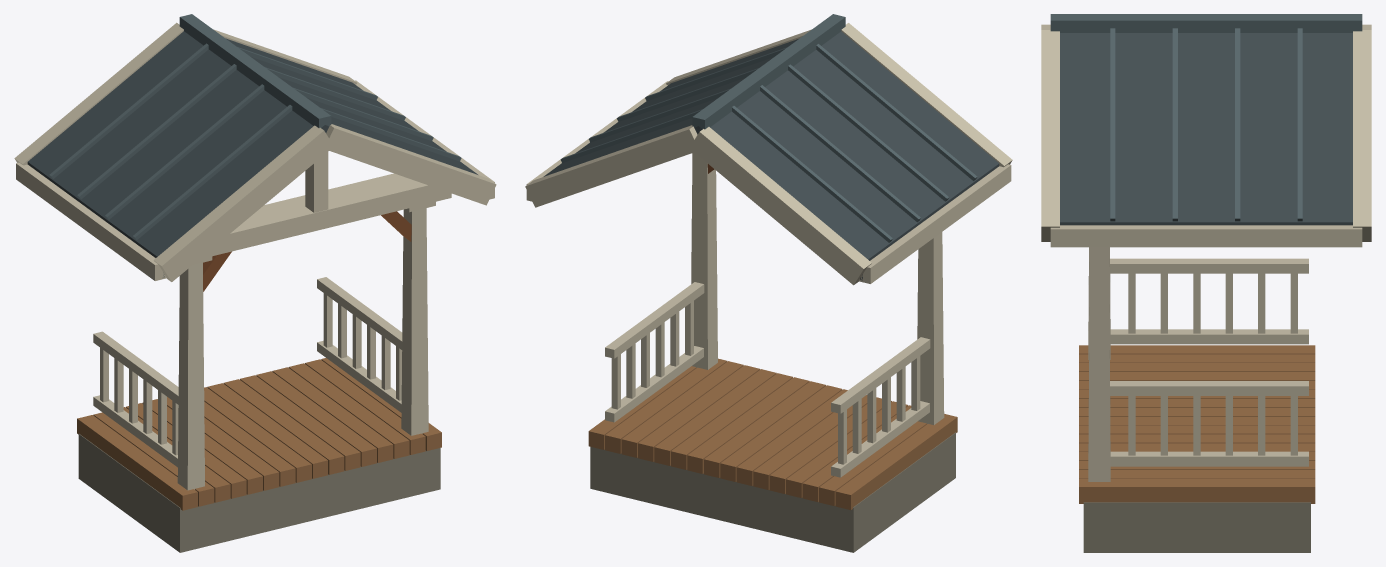
Rendered from braced_stoop.glb.
3 views of the same model, side by side, from view 1: azimuth 30°, elevation 25°; view 2: azimuth 150°, elevation 25°; view 3: azimuth 270°, elevation 25° (orthographic). The views are drawn at different scales.
Visible parts, largest first — view 1: KitBracedStoopDetails, KitBracedStoopRoofFinish; view 2: KitBracedStoopDetails, KitBracedStoopRoofFinish; view 3: KitBracedStoopDetails, KitBracedStoopRoofFinish.
Boxes of the visible parts, left/top/right/bottom form: KitBracedStoopDetails: left=14, top=22, right=496, bottom=552; KitBracedStoopRoofFinish: left=27, top=14, right=477, bottom=277; KitBracedStoopDetails: left=525, top=23, right=1012, bottom=552; KitBracedStoopRoofFinish: left=543, top=14, right=999, bottom=280; KitBracedStoopDetails: left=1041, top=24, right=1371, bottom=552; KitBracedStoopRoofFinish: left=1050, top=14, right=1362, bottom=225.
Bounding box in the file's own units: 3.33 × 3.88 × 2.5.
